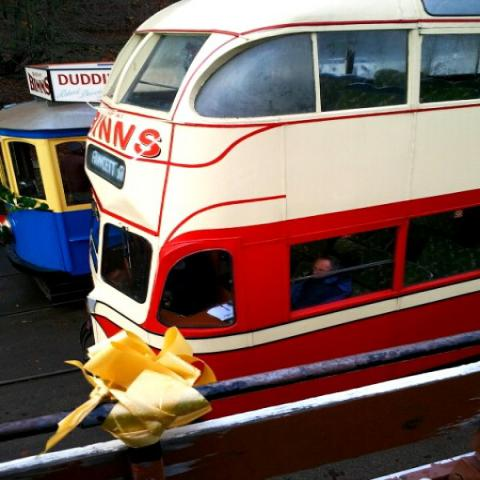bus: (90, 1, 479, 375), (3, 101, 98, 277)
